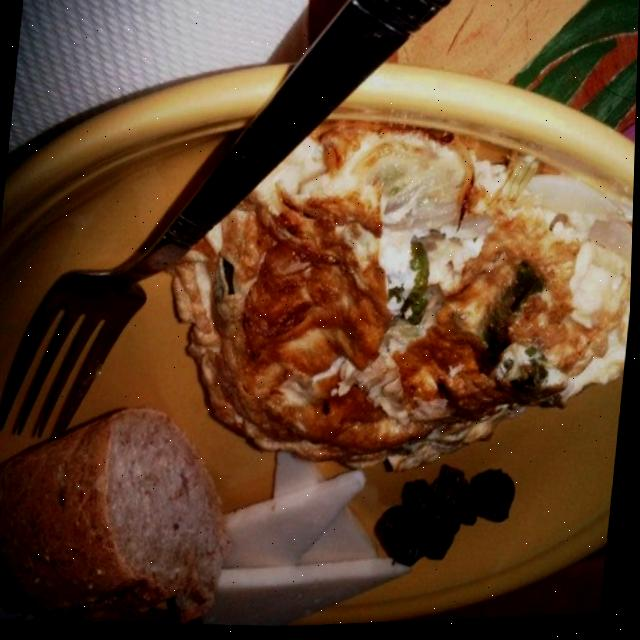面包点心: (162, 114, 637, 503)
